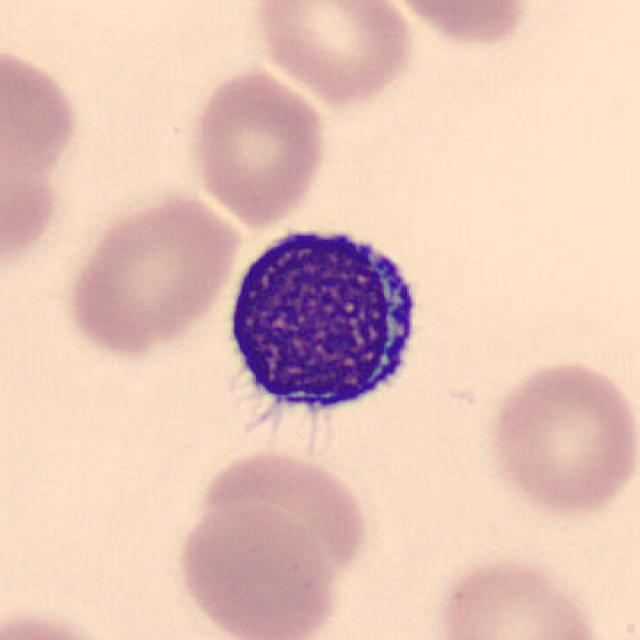Lymphocyte: (210, 210, 432, 442)
RBC: (62, 190, 244, 360), (185, 446, 371, 594), (486, 356, 636, 518), (169, 499, 339, 640), (185, 66, 331, 228), (0, 37, 84, 279), (250, 0, 418, 108), (434, 553, 608, 640), (380, 0, 535, 49), (2, 603, 135, 640)
